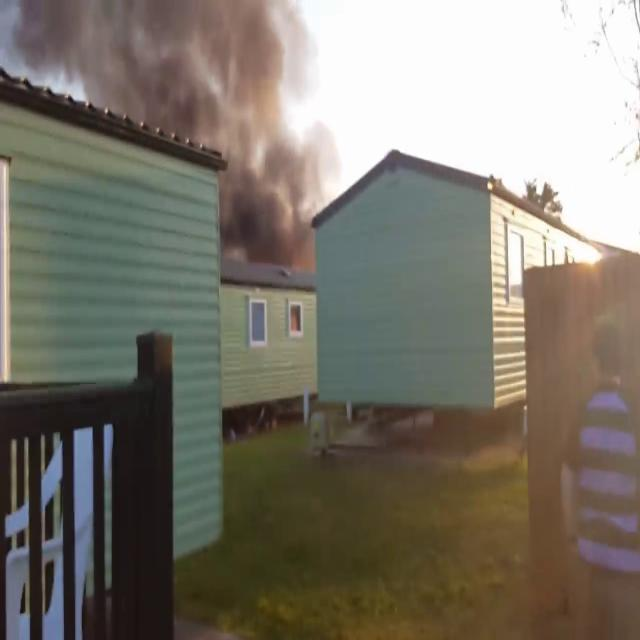Smoke: (5, 0, 327, 230)
